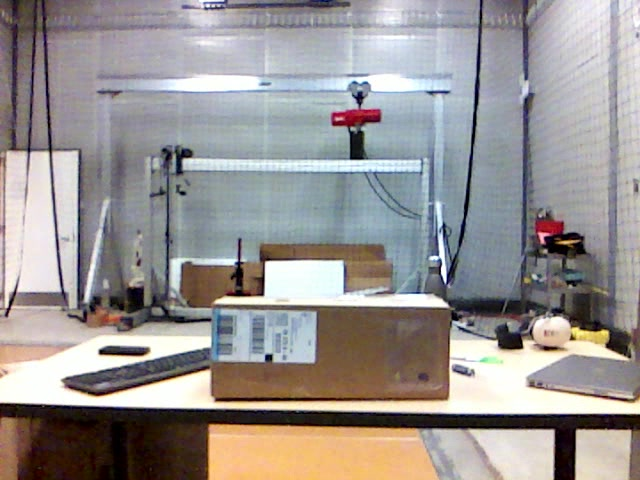box: (212, 300, 448, 398)
